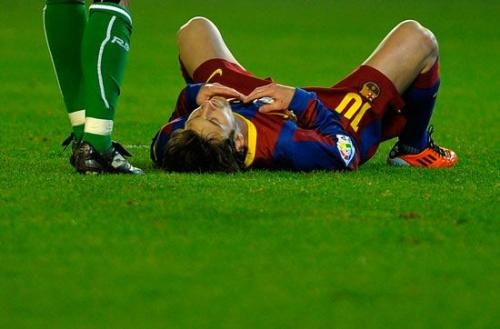falling: (140, 7, 465, 177)
